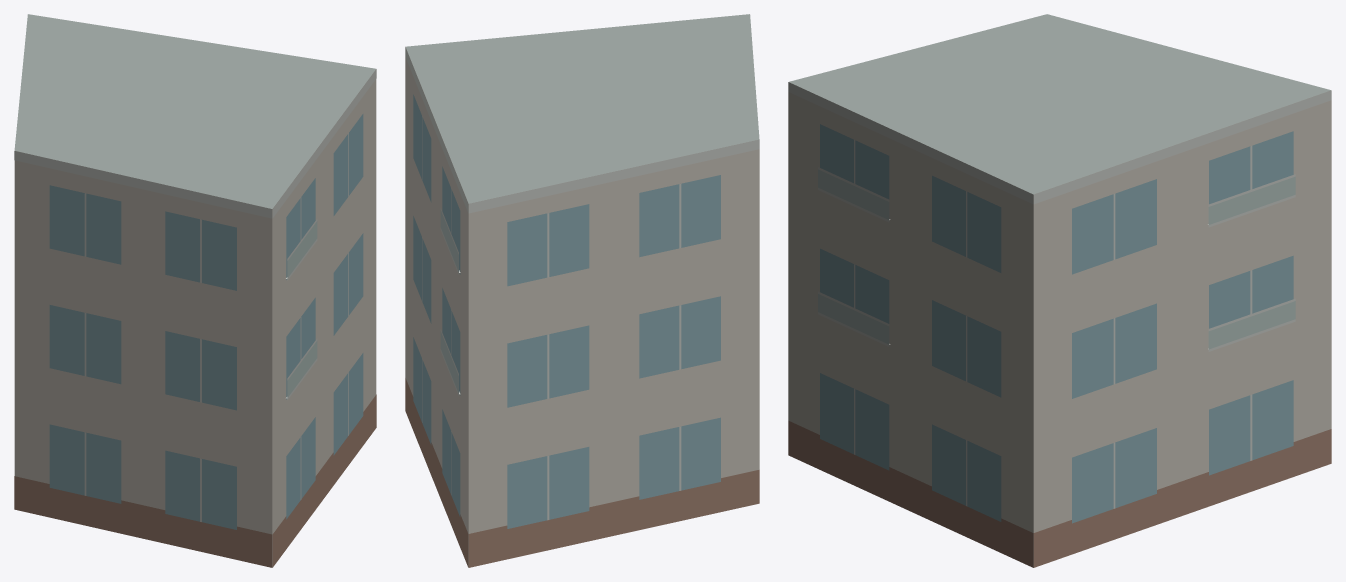
Rendered from survey-upis-32465321.glb.
The picture shows the model from 3 angles, left to right: view 1: azimuth 30°, elevation 25°; view 2: azimuth 150°, elevation 25°; view 3: azimuth 270°, elevation 25°; orthographic projection. The views are drawn at different scales.
Visible parts, largest first — view 1: survey-upis-32465321.tmp; view 2: survey-upis-32465321.tmp; view 3: survey-upis-32465321.tmp.
Part boxes in pixels (x1=…): survey-upis-32465321.tmp: x1=14, y1=14, x2=376, y2=567; survey-upis-32465321.tmp: x1=405, y1=14, x2=759, y2=567; survey-upis-32465321.tmp: x1=788, y1=14, x2=1331, y2=567.
Size of the model in its own units: 9.5 by 9.15 by 12.07.
